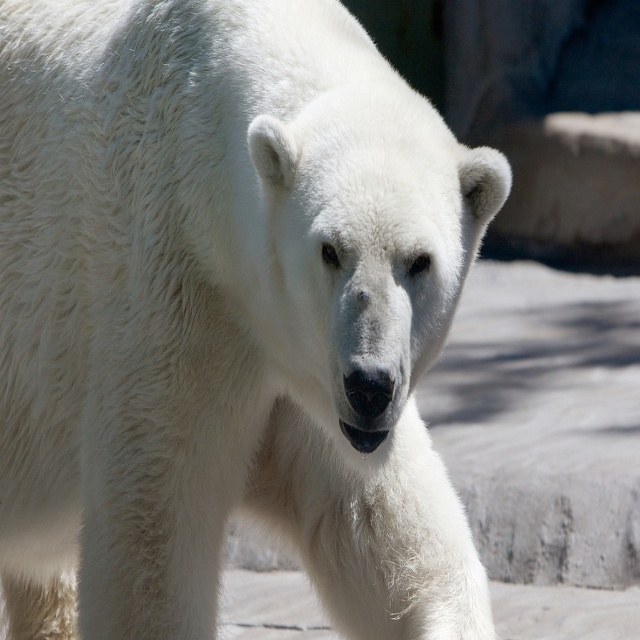Polar bear: (0, 0, 513, 640)
